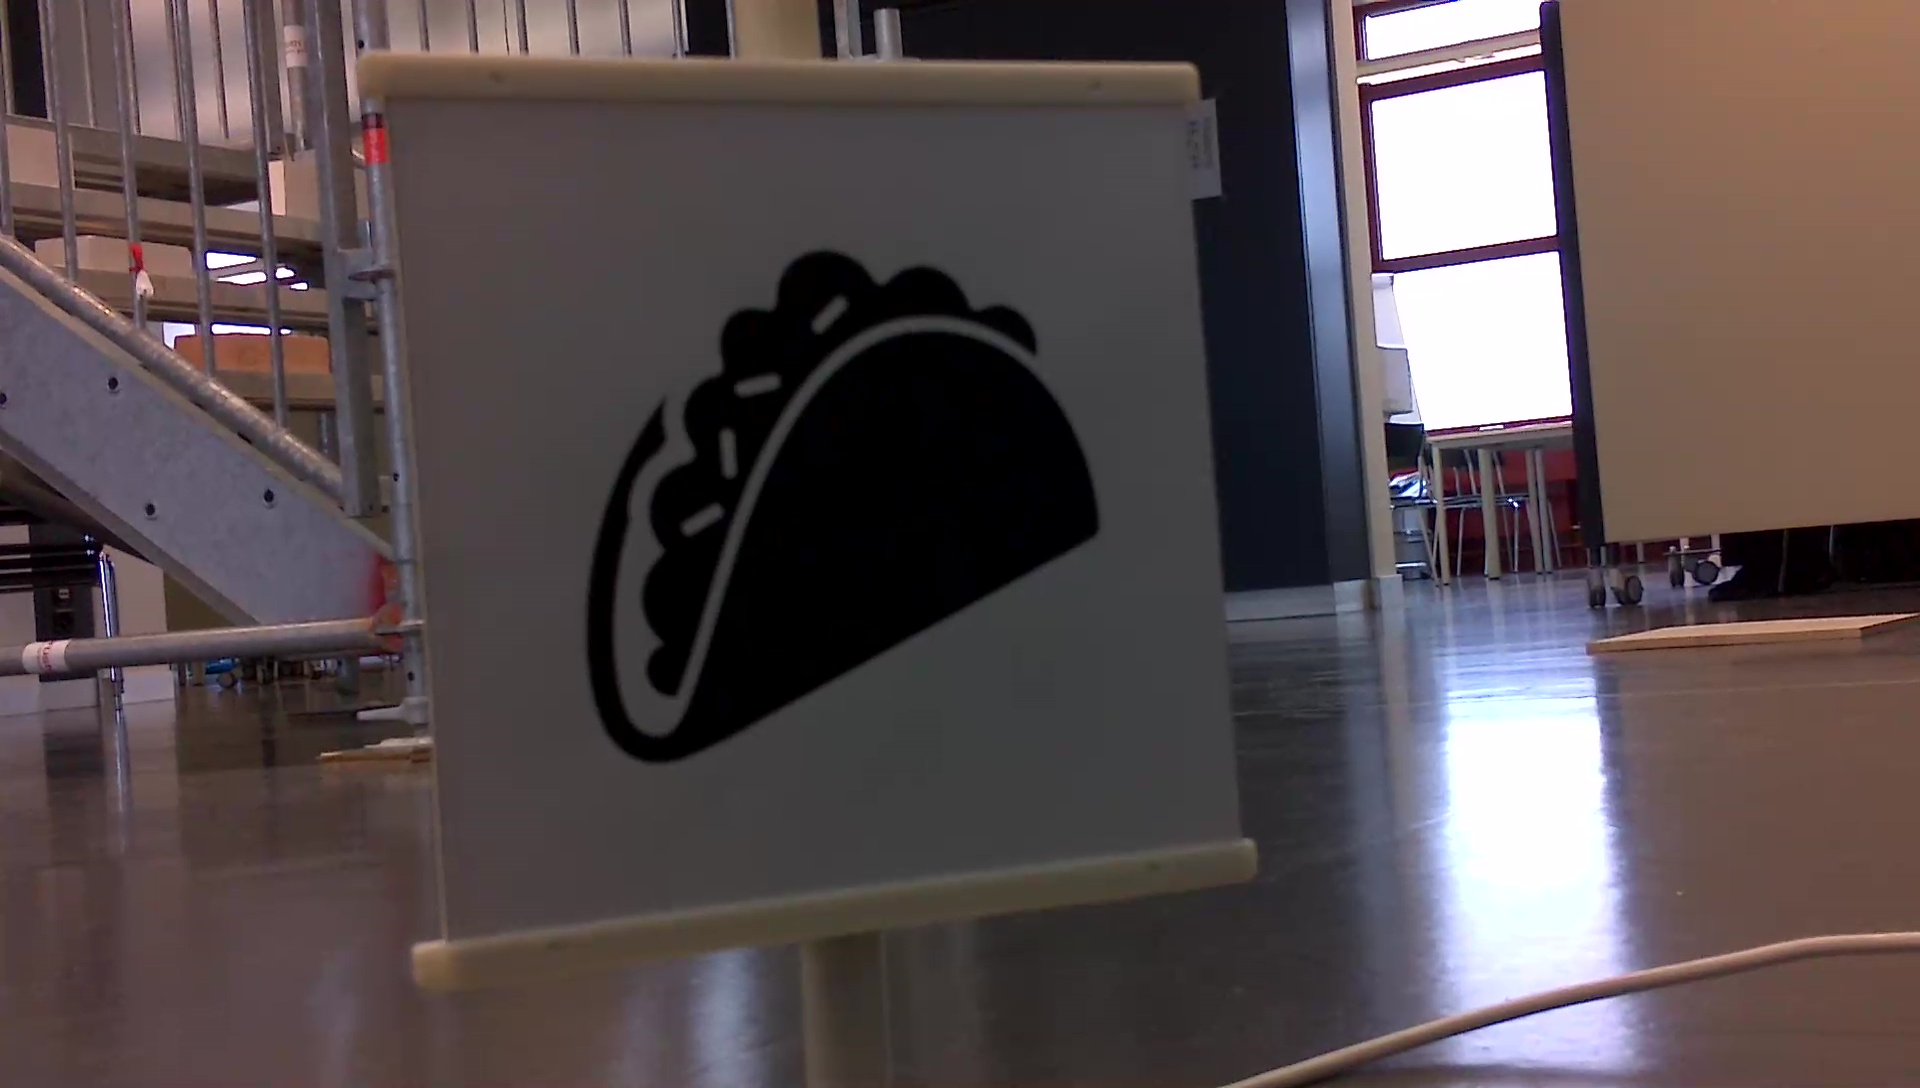taco: (574, 237, 1112, 771)
